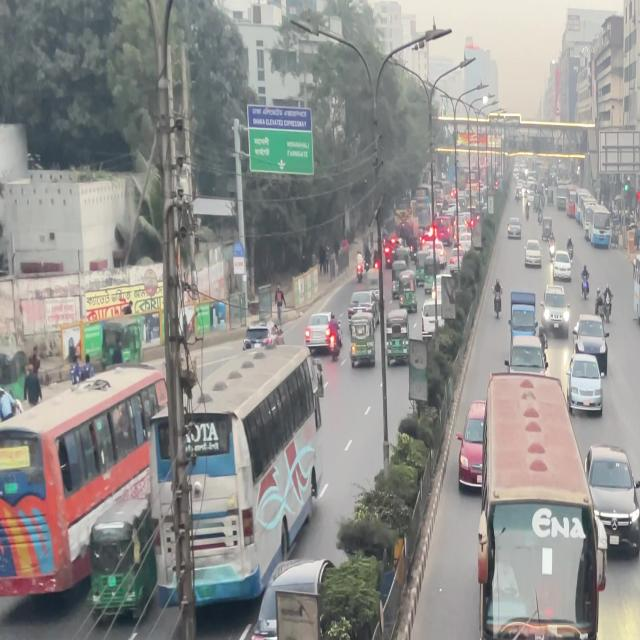bus: (1, 364, 173, 622), (183, 349, 326, 613), (480, 434, 606, 640)
car: (582, 444, 640, 558), (255, 558, 330, 640), (567, 354, 610, 418), (307, 313, 344, 356), (574, 318, 612, 358)
rickshaw: (79, 467, 163, 626)
